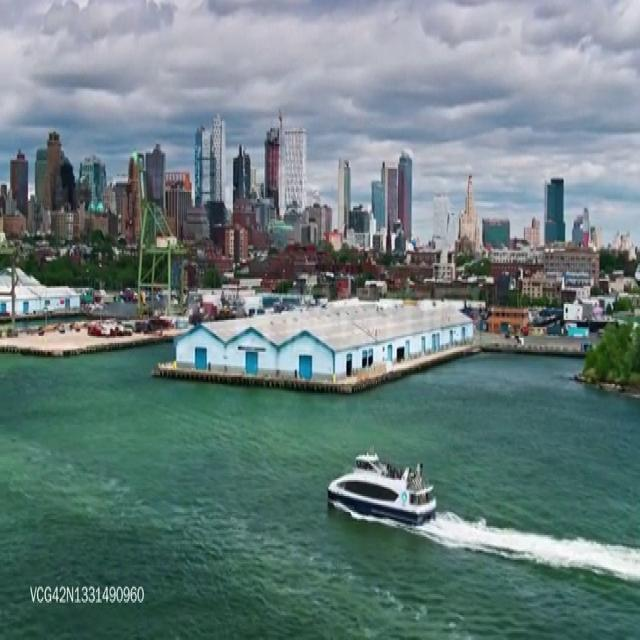houseboat: (328, 444, 435, 522)
